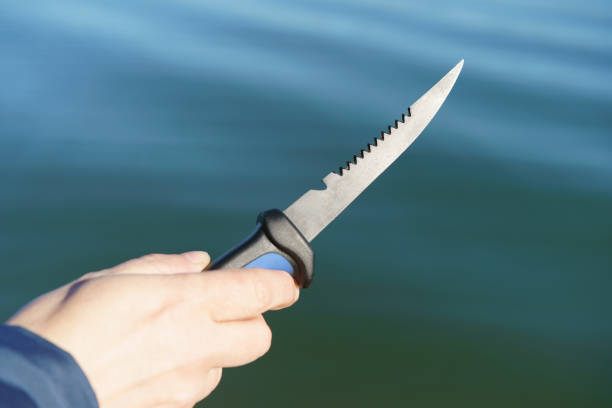knife: (208, 57, 466, 288)
